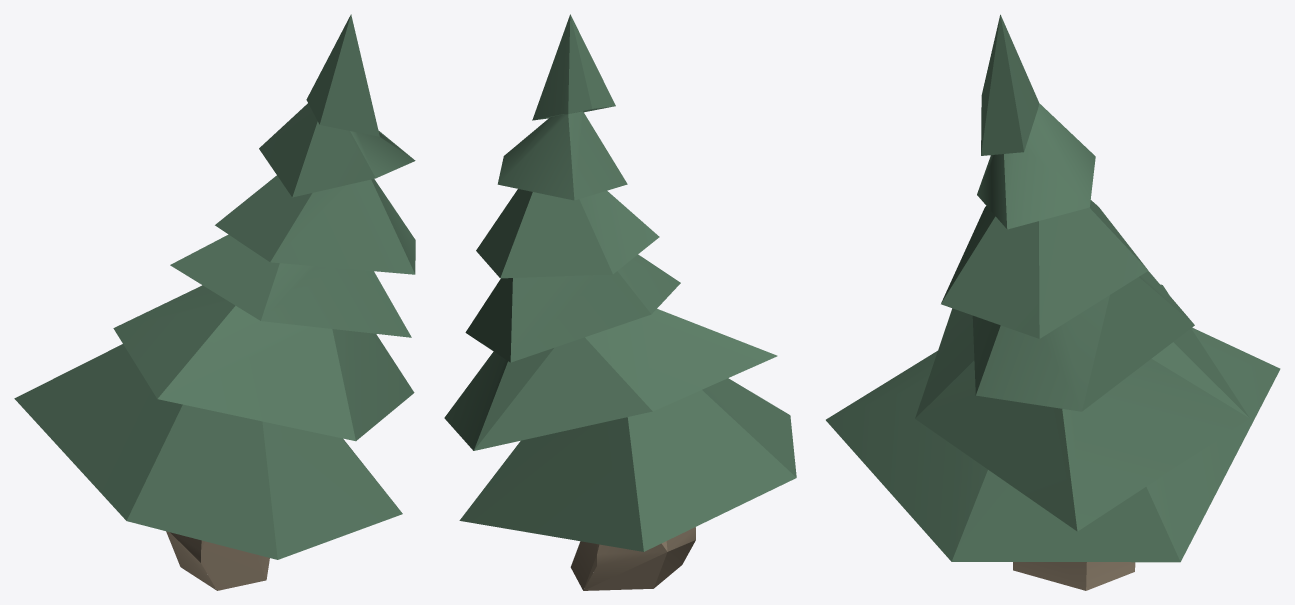
The model's file is treePine.dae.
The picture shows the model from 3 angles, left to right: view 1: azimuth 30°, elevation 25°; view 2: azimuth 150°, elevation 25°; view 3: azimuth 270°, elevation 25°; orthographic projection. The views are drawn at different scales.
Parts seen in each view (by area): view 1: Tree_Pine_04; view 2: Tree_Pine_04; view 3: Tree_Pine_04.
Boxes of the visible parts, x1,y1,x2,y2 form: Tree_Pine_04: [14, 14, 415, 590]; Tree_Pine_04: [444, 14, 796, 590]; Tree_Pine_04: [826, 14, 1280, 590].
Size of the model in its own units: 347 by 551 by 380.
